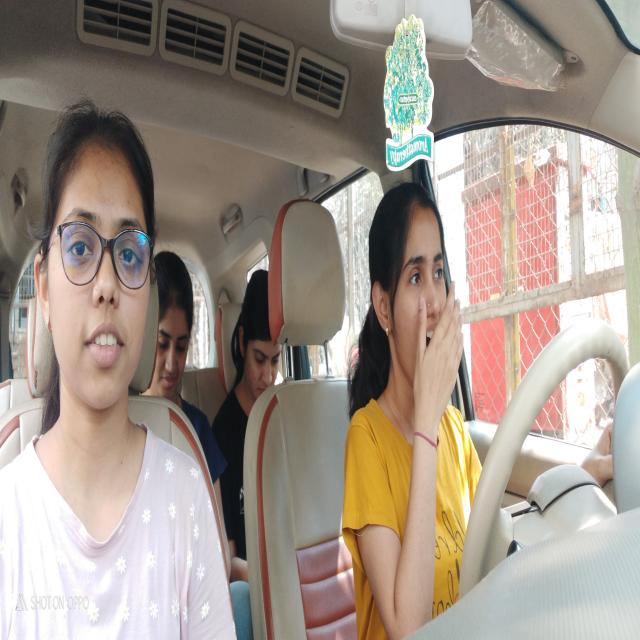drowsy: (362, 180, 471, 438)
person: (29, 91, 157, 422), (233, 263, 285, 402), (156, 258, 200, 403)
